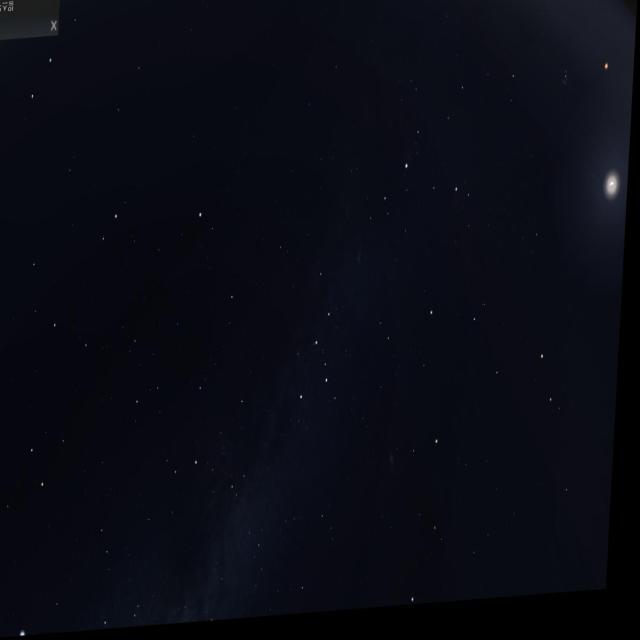cassiopeia: (284, 263, 350, 427)
moon: (595, 143, 632, 221)
